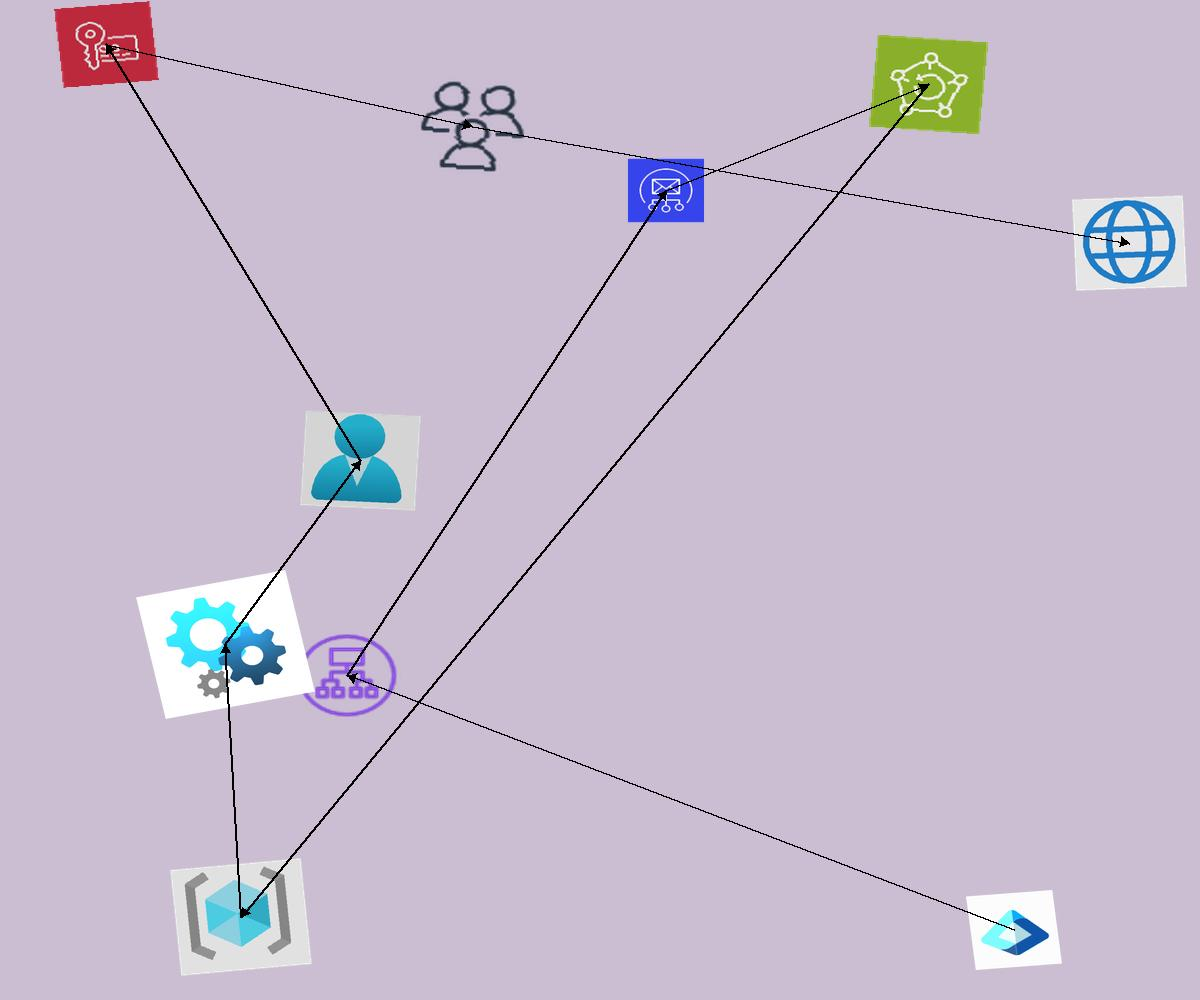AWS-Backup: (868, 34, 989, 135)
AWS-Key-Management-Service: (54, 1, 159, 88)
AWS-Res_Elastic-Load-Balancing_Application-Load-Balancer: (291, 629, 403, 722)
AWS-Res_Users: (412, 76, 533, 177)
AWS-Simple-Email-Service: (627, 158, 705, 223)
Azure_api: (136, 570, 315, 719)
Azure_http: (1072, 195, 1187, 291)
Azure_microsoft_entra: (966, 890, 1062, 970)
Azure_resource_group: (170, 858, 312, 976)
Azure_users: (300, 410, 421, 511)
